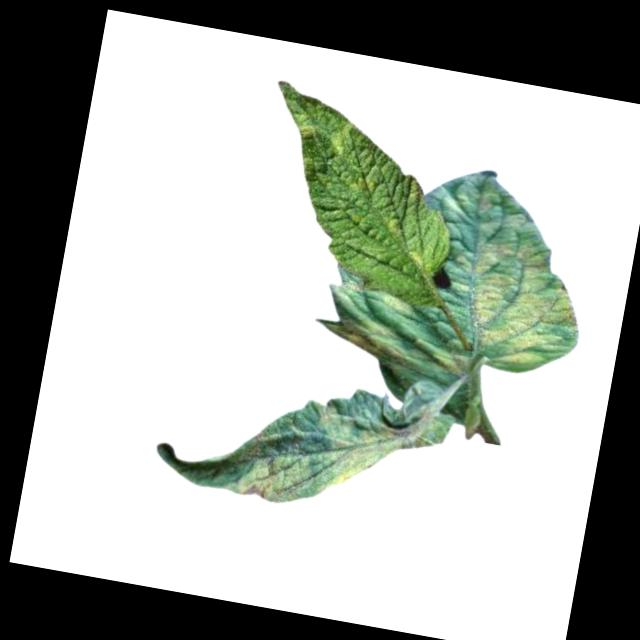Leaf_Mold: (223, 375, 446, 529), (460, 177, 604, 383), (316, 277, 426, 366), (288, 103, 361, 157)
